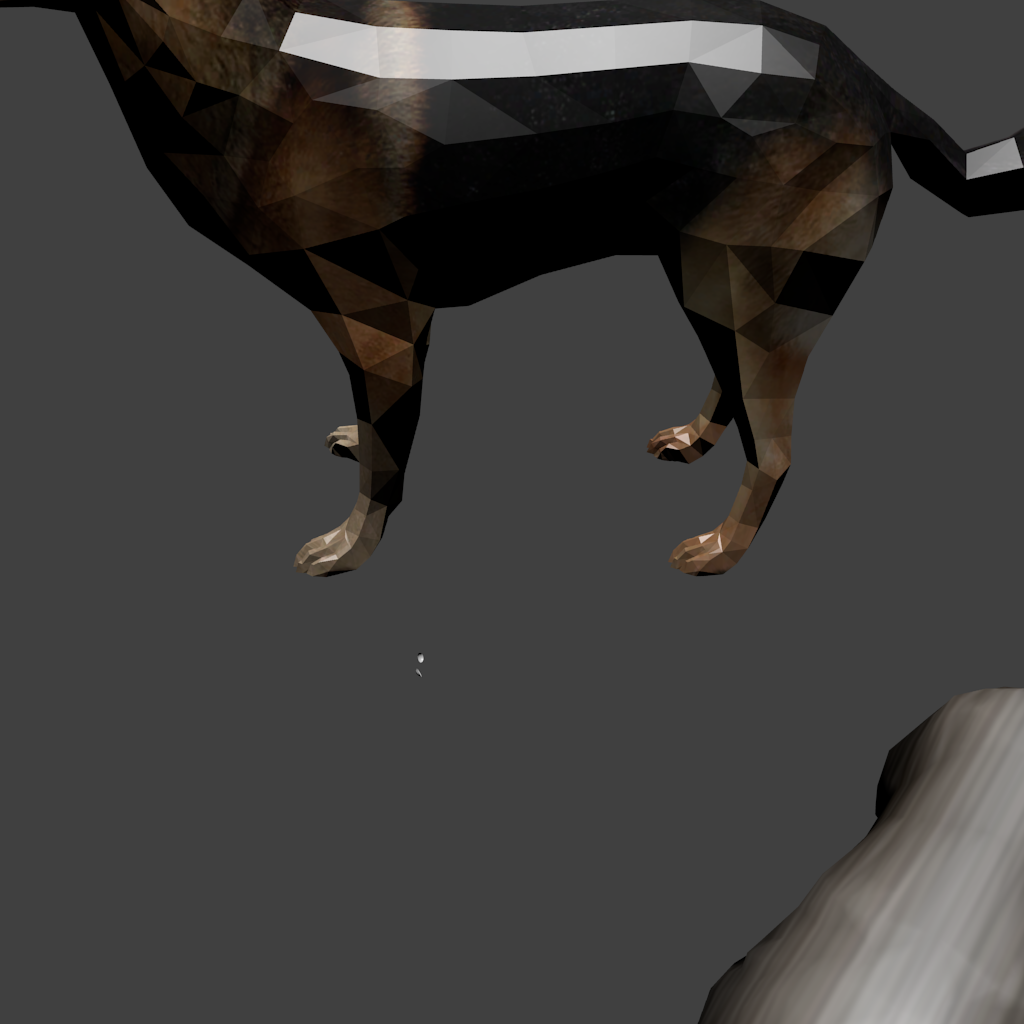Dog: (0, 0, 1024, 577)
